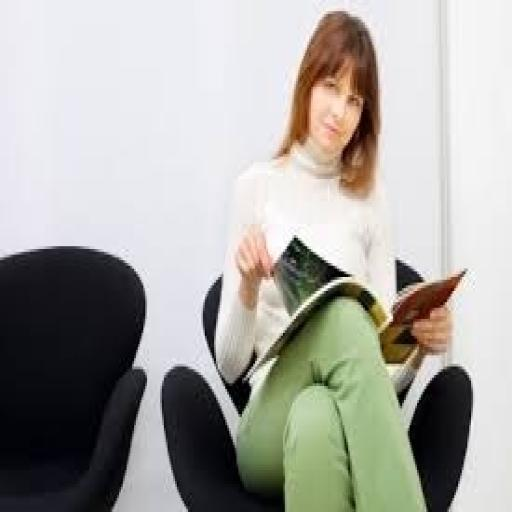sitting: (209, 8, 471, 510)
